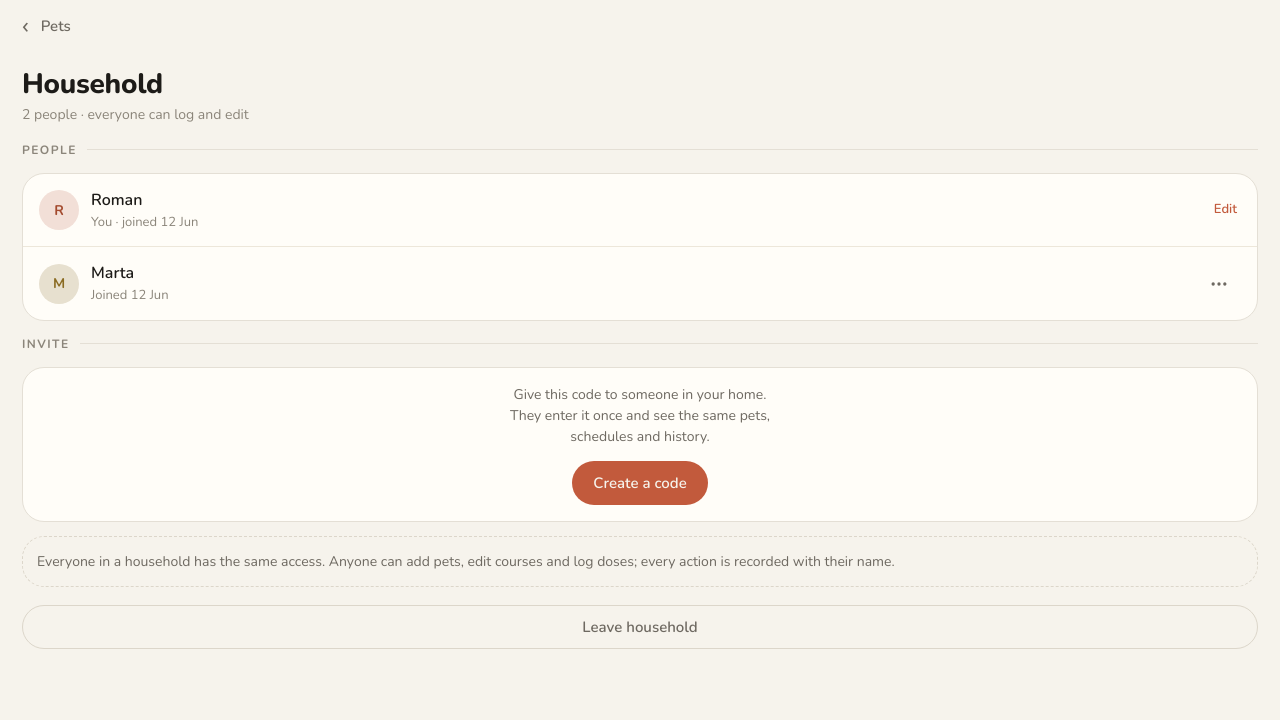
Test: HouseholdPage › keeps both portalled confirmation dialogs inside a .ds-root token scope, so they are not painted with unresolved tokens
What coordinates should you click on to do the following:
click the button named "More options for Marta"
I would click on:
 (1219, 284)
Its box is [1197,262,1241,306].
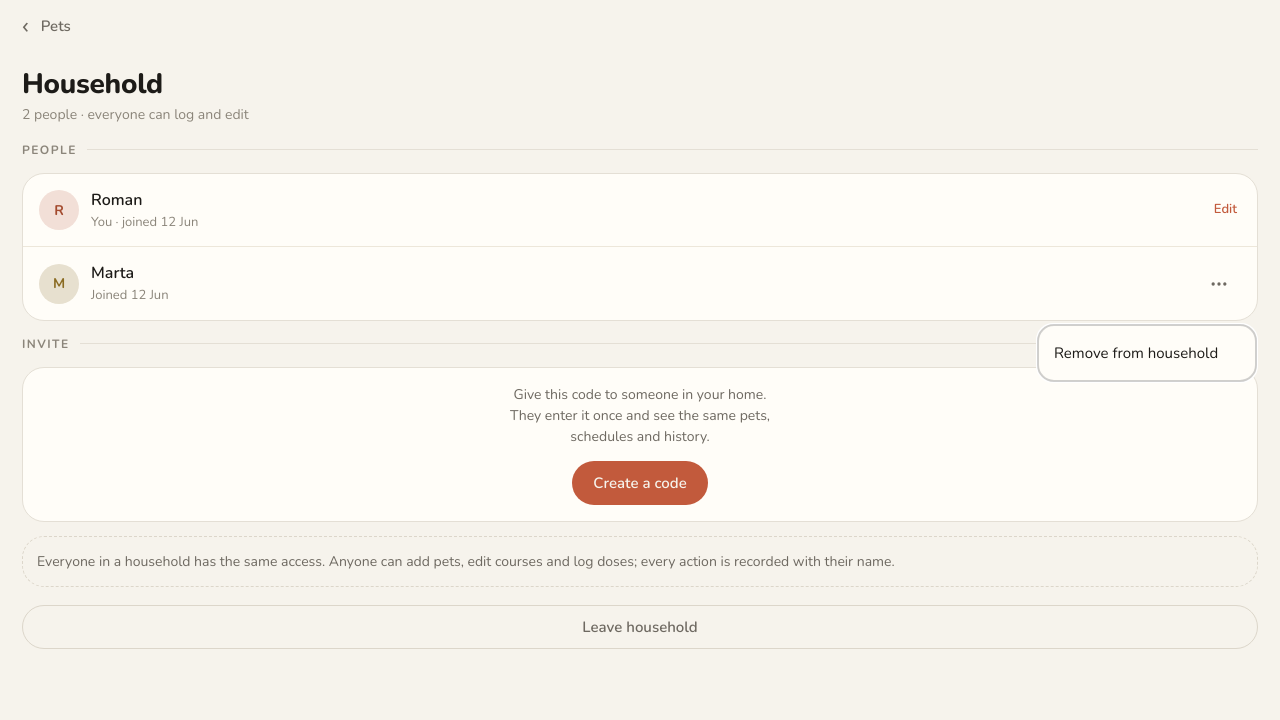
What coordinates should you click on to do the following:
click the menu item "Remove from household"
I would click on:
 (1136, 353)
Its box is [1054,343,1218,363].
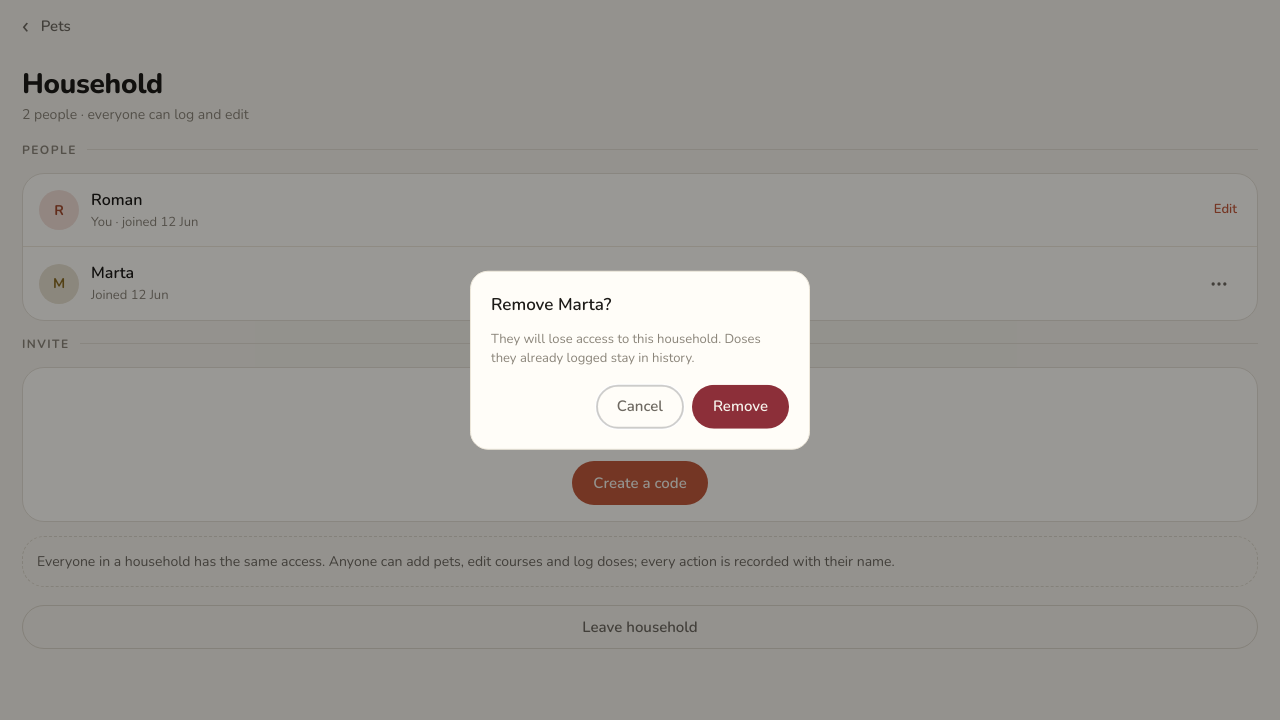
Expected: the dialog "Remove Marta?" is shown, [470,271,810,449]
What coordinates should you click on to do the following:
click the button "Cancel"
I would click on:
 (640, 406)
Its box is [596,384,684,428].
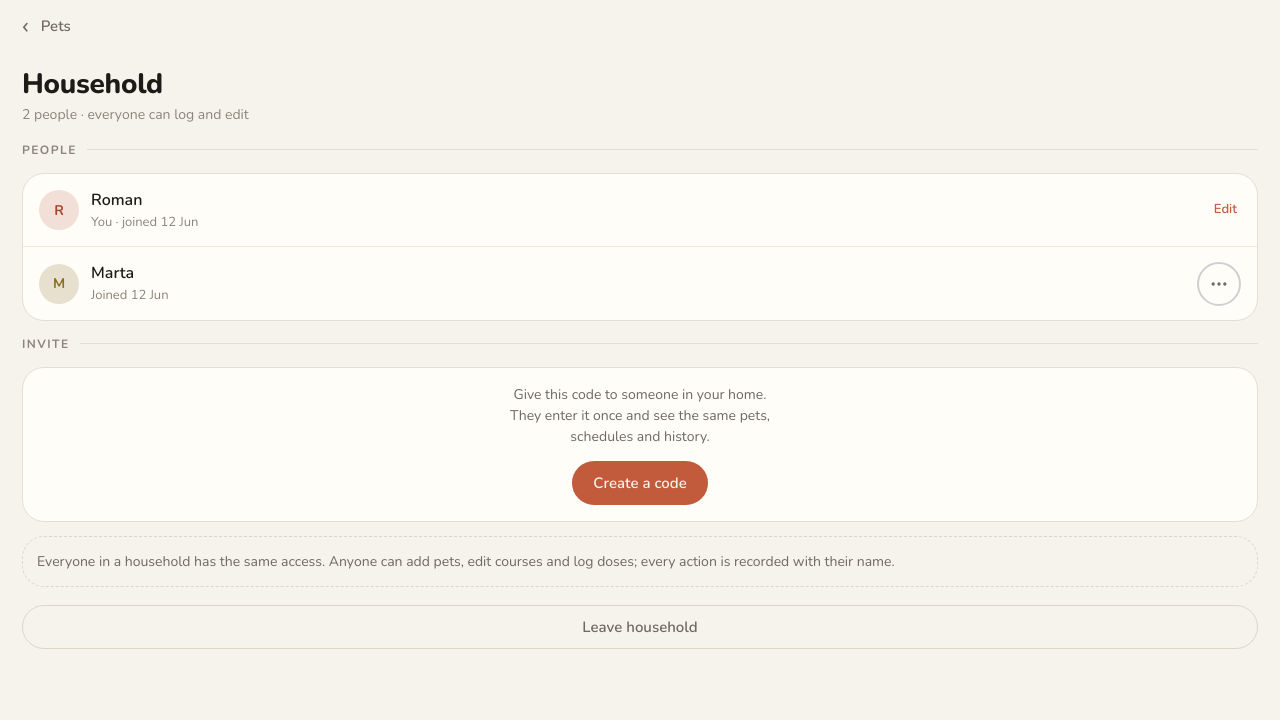
Expected: the dialog is gone
What coordinates should you click on to do the following:
click the button "Leave household"
I would click on:
 (640, 627)
Its box is [22,605,1258,649].
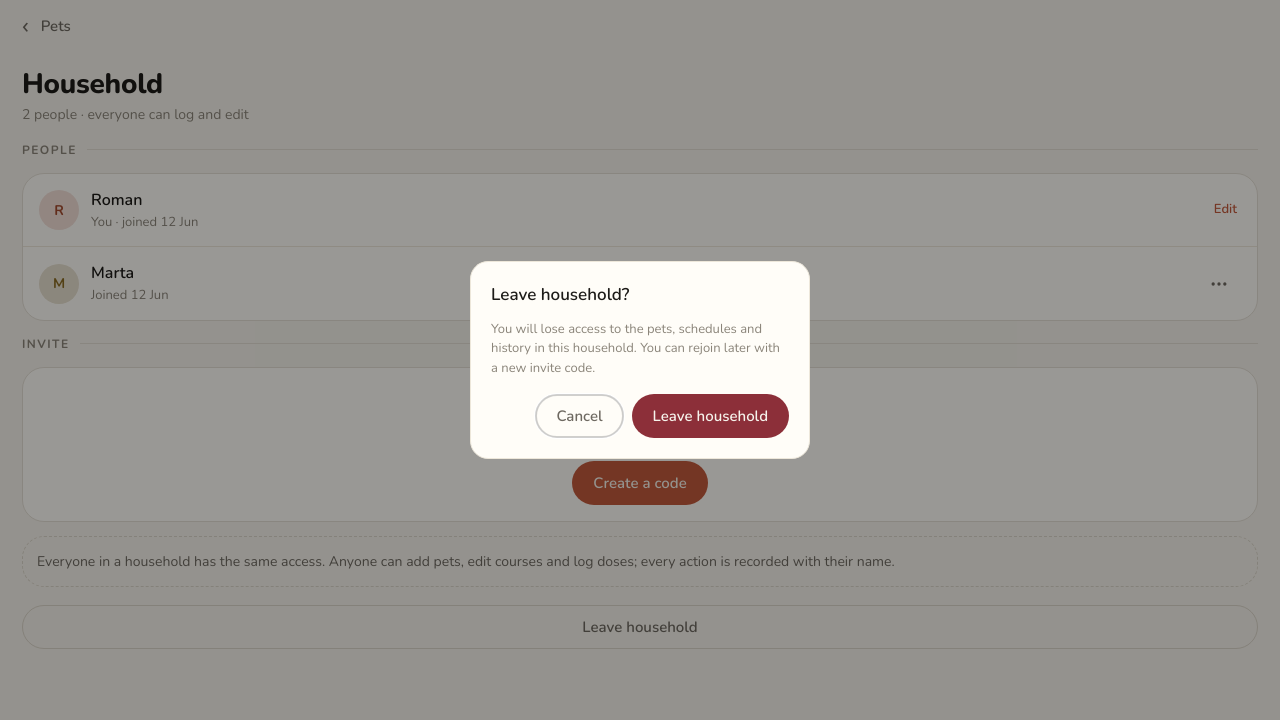
Expected: the dialog "Leave household?" is shown, [470,261,810,459]
